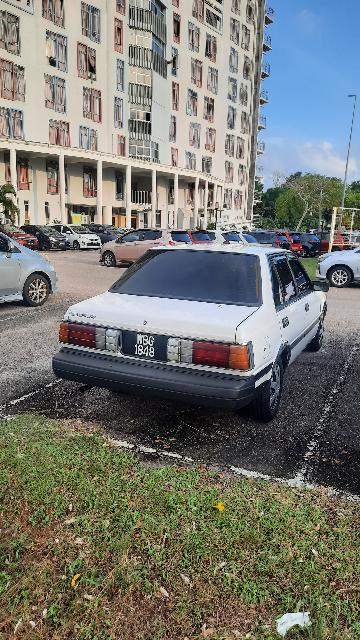License_Plate: (121, 327, 171, 365)
car: (61, 240, 329, 422)
